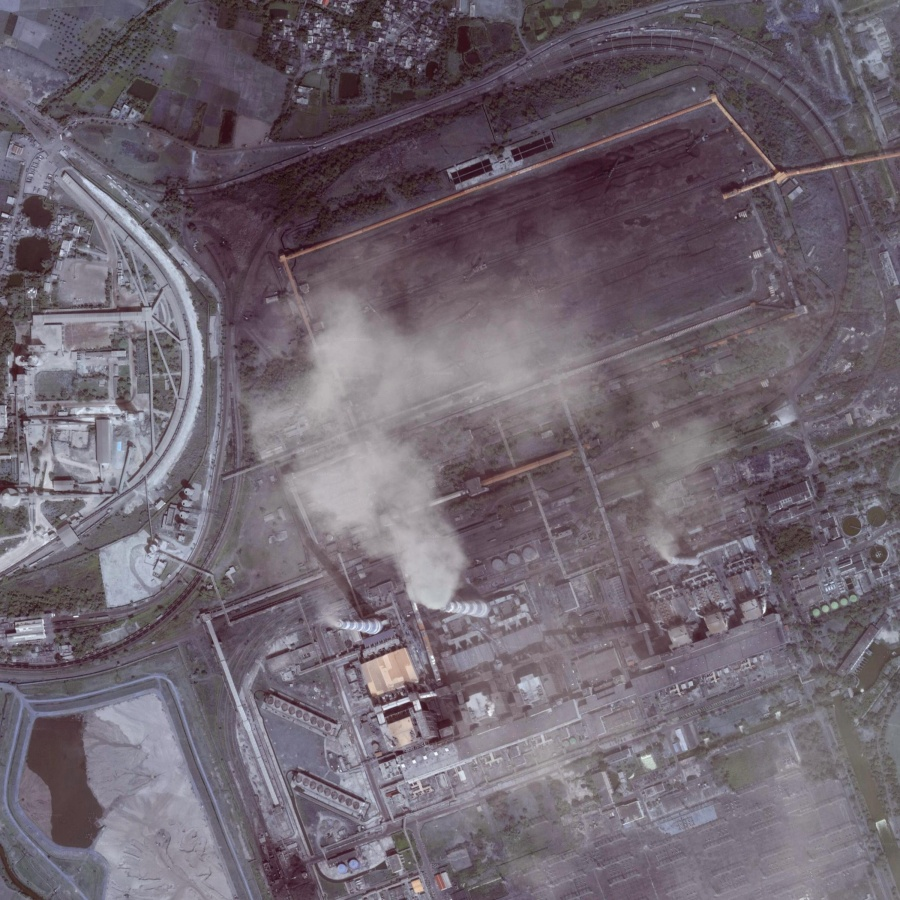PowerPlant: (230, 108, 811, 503), (285, 480, 769, 791)
